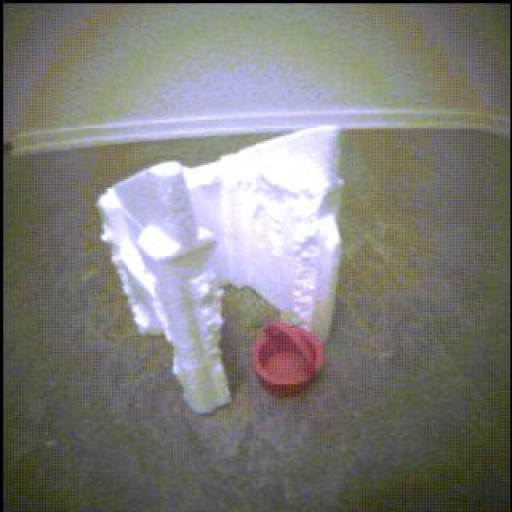Bucket: (254, 321, 324, 398)
